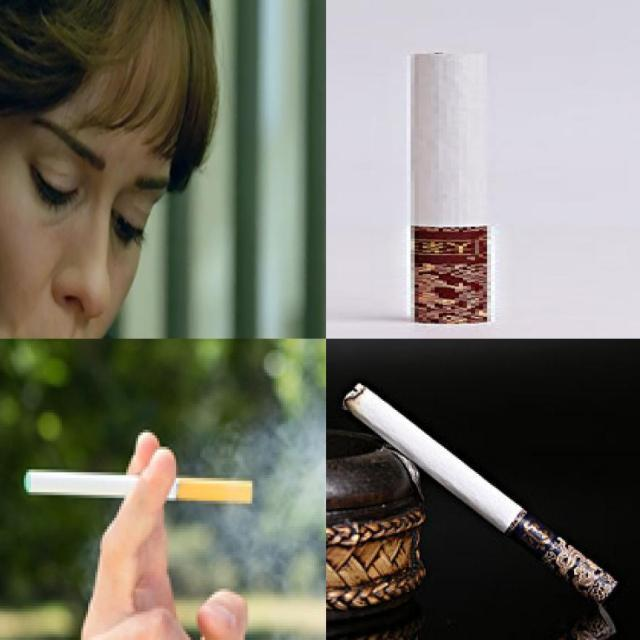smoking: (340, 380, 618, 608), (407, 50, 495, 324), (24, 467, 252, 504)
